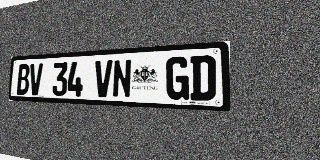3: (52, 62, 68, 96)
4: (67, 61, 83, 97)
B: (16, 64, 30, 95)
D: (190, 55, 216, 101)
G: (165, 56, 189, 100)
N: (112, 59, 132, 98)
V: (94, 60, 113, 98), (29, 63, 43, 95)
